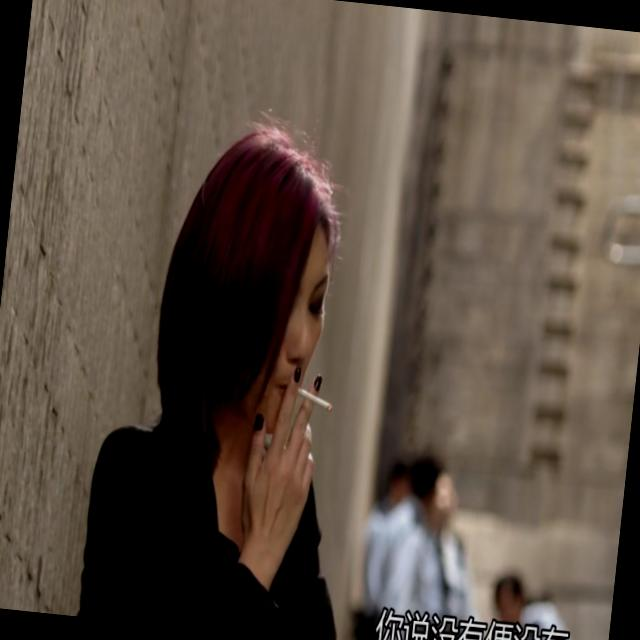cigarette: (292, 382, 334, 416)
